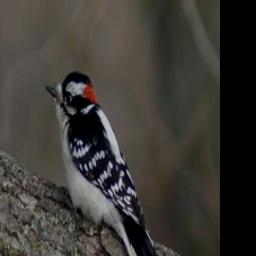Woodpecker: (46, 71, 163, 256)
